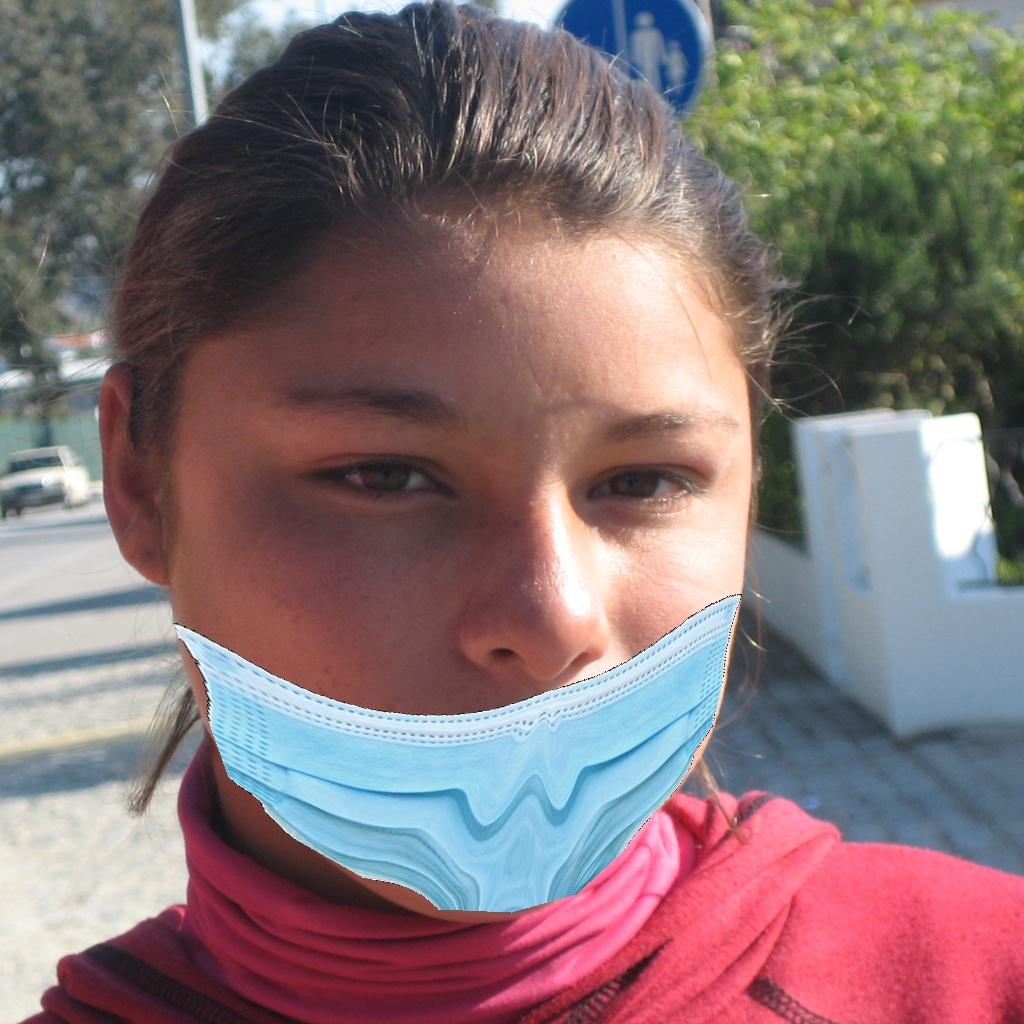Máscara Incorreta: (206, 253, 764, 912)
